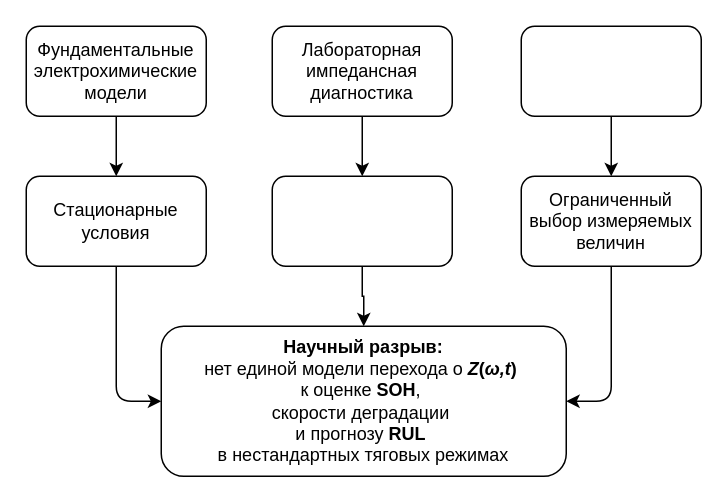
Some shapes in this 728 by 503 pixel diagram are drawn without their labels. The shapes that lost their labels are listed below. From the top down, each one's centre as x and y in pixels, then its label:
[610,70]: Инженерные алгоритмы BMS
[361,220]: Полный спектр, длительные измерения
